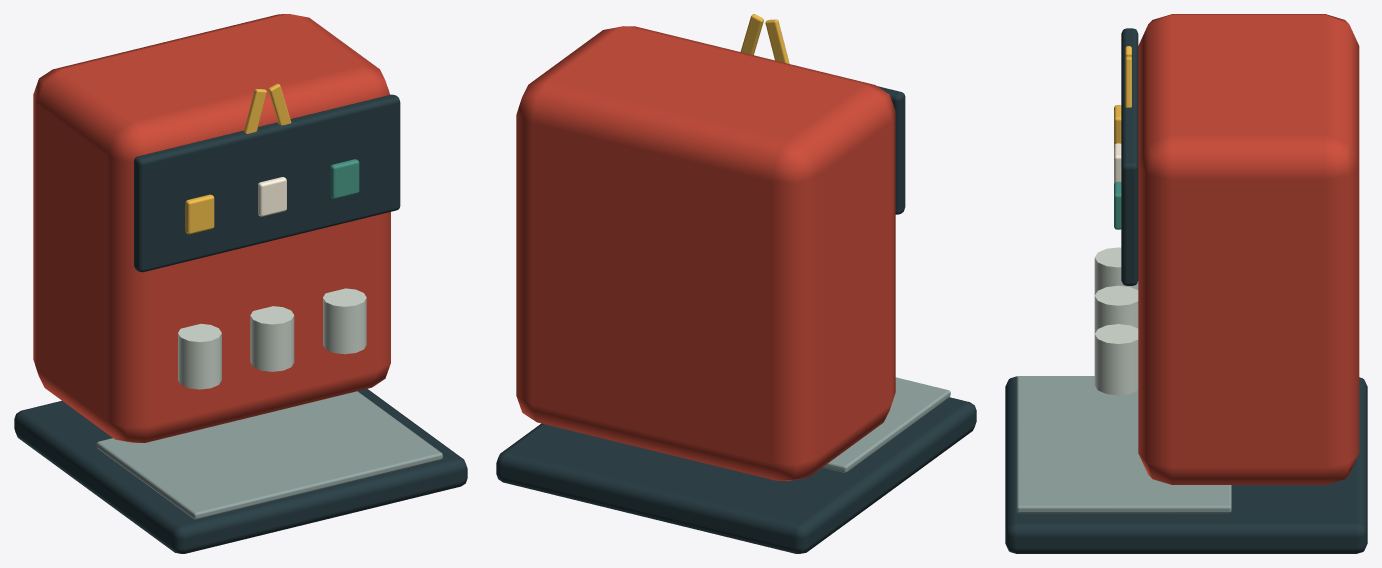
Rendered from drink-machine.glb.
3 views of the same model, side by side, from view 1: azimuth 30°, elevation 25°; view 2: azimuth 150°, elevation 25°; view 3: azimuth 270°, elevation 25° (orthographic). The views are drawn at different scales.
Visible parts, largest first — view 1: drink-machine; view 2: drink-machine; view 3: drink-machine.
Part boxes in pixels (box(x1,y1,x2,y2)): drink-machine: box(14, 14, 467, 553); drink-machine: box(496, 14, 976, 553); drink-machine: box(1005, 14, 1367, 553).
Bounding box in the file's own units: 0.65 × 0.8348 × 0.64.
